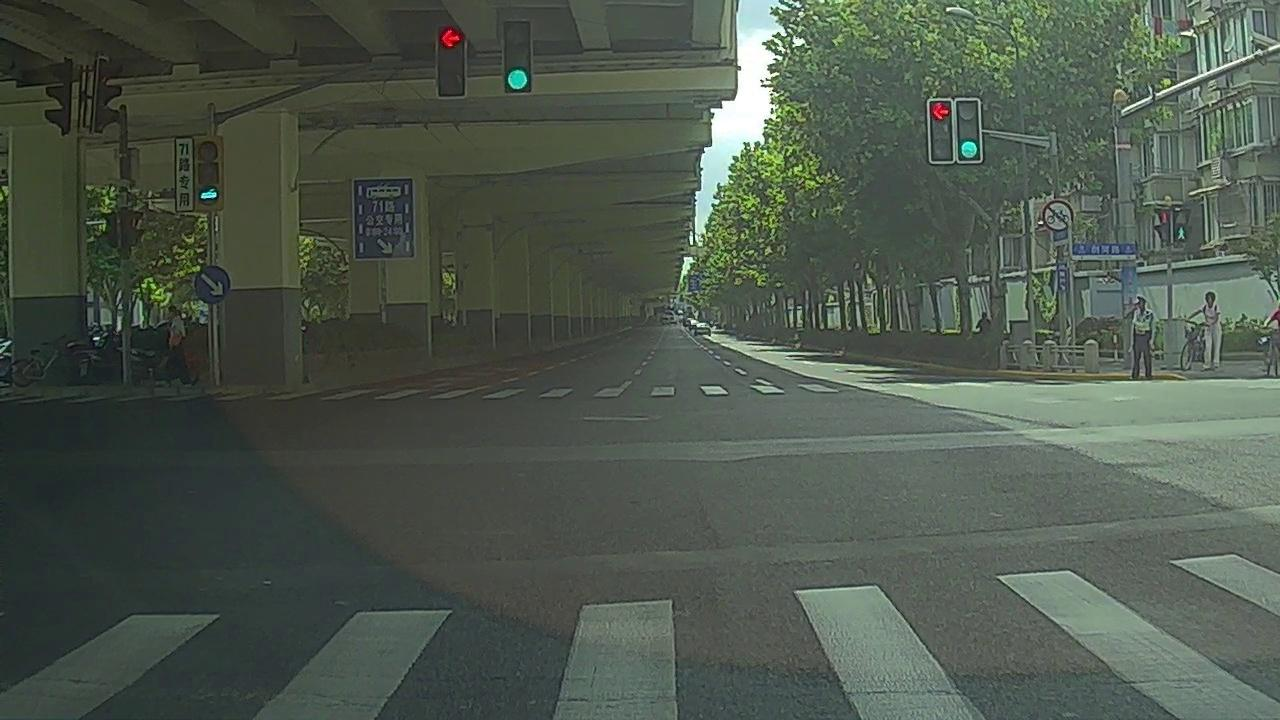traffic_light: (504, 22, 530, 93), (438, 27, 464, 96), (955, 100, 980, 161), (930, 101, 952, 162)
